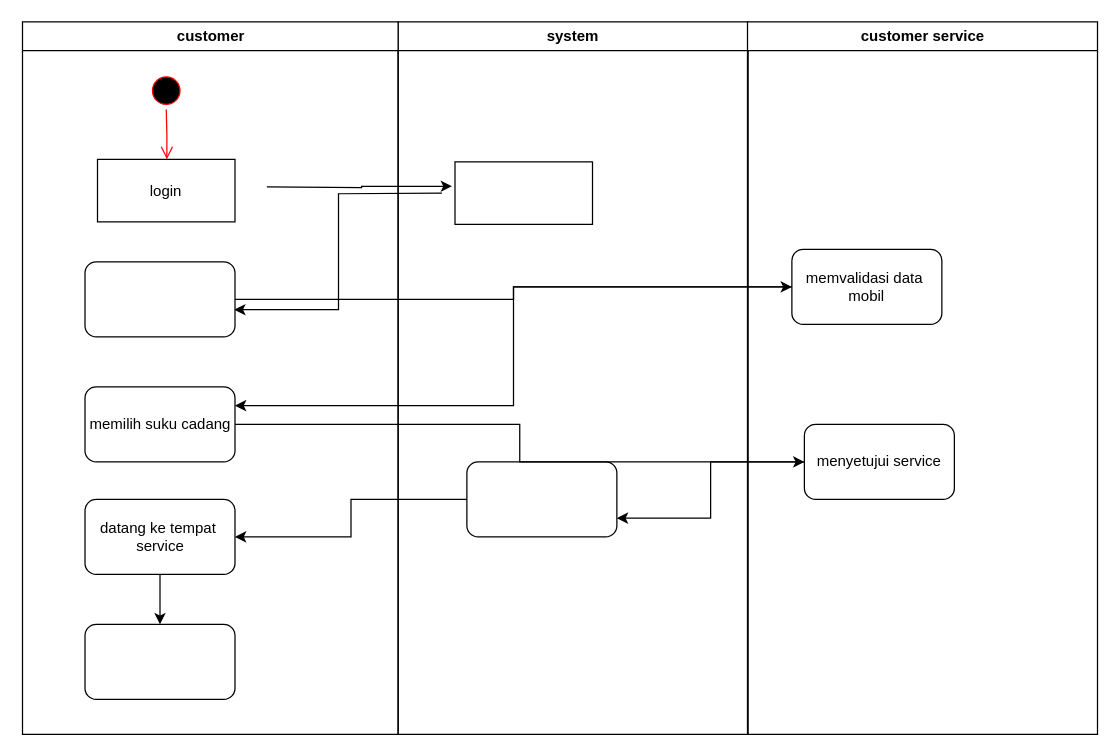
The diagram is 1119 pixels wide and 756 high, and some of its shapes have lost their labels. The centre of each missing label's shape, as x and y in pixels:
bayar: [159,661]
membuatkan tiket booking: [541,499]
menampilkan list service: [523,192]
mengisi data mobil: [159,299]
